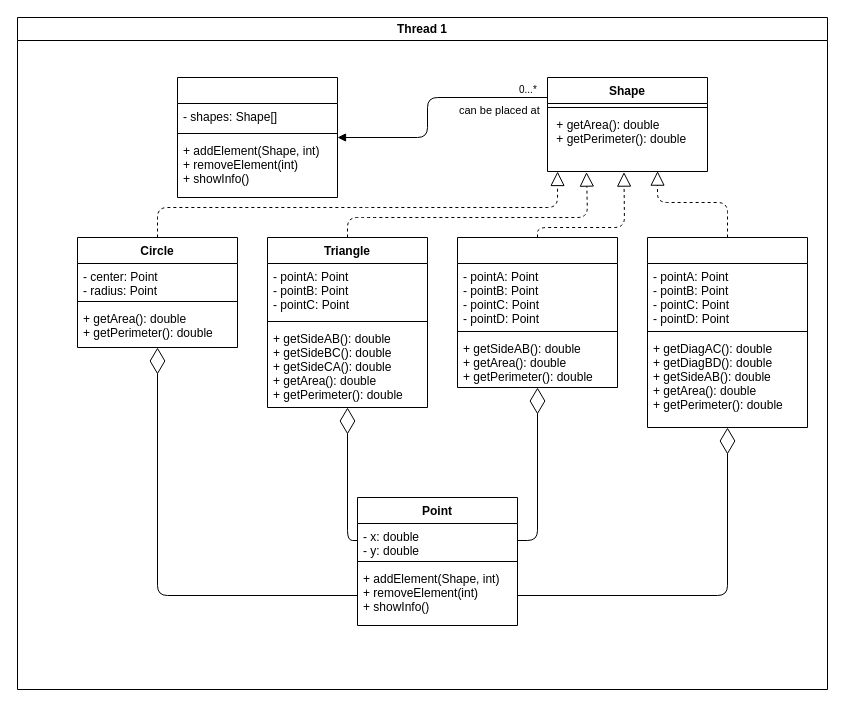
Image size: 845x707. Some labels were removed from this diagram. The box of each missing label's shape, as (x1, y1, x2, y2) in pixels:
Board: (176, 76, 338, 198)
Diamond: (646, 236, 808, 428)
Square: (456, 236, 618, 388)
